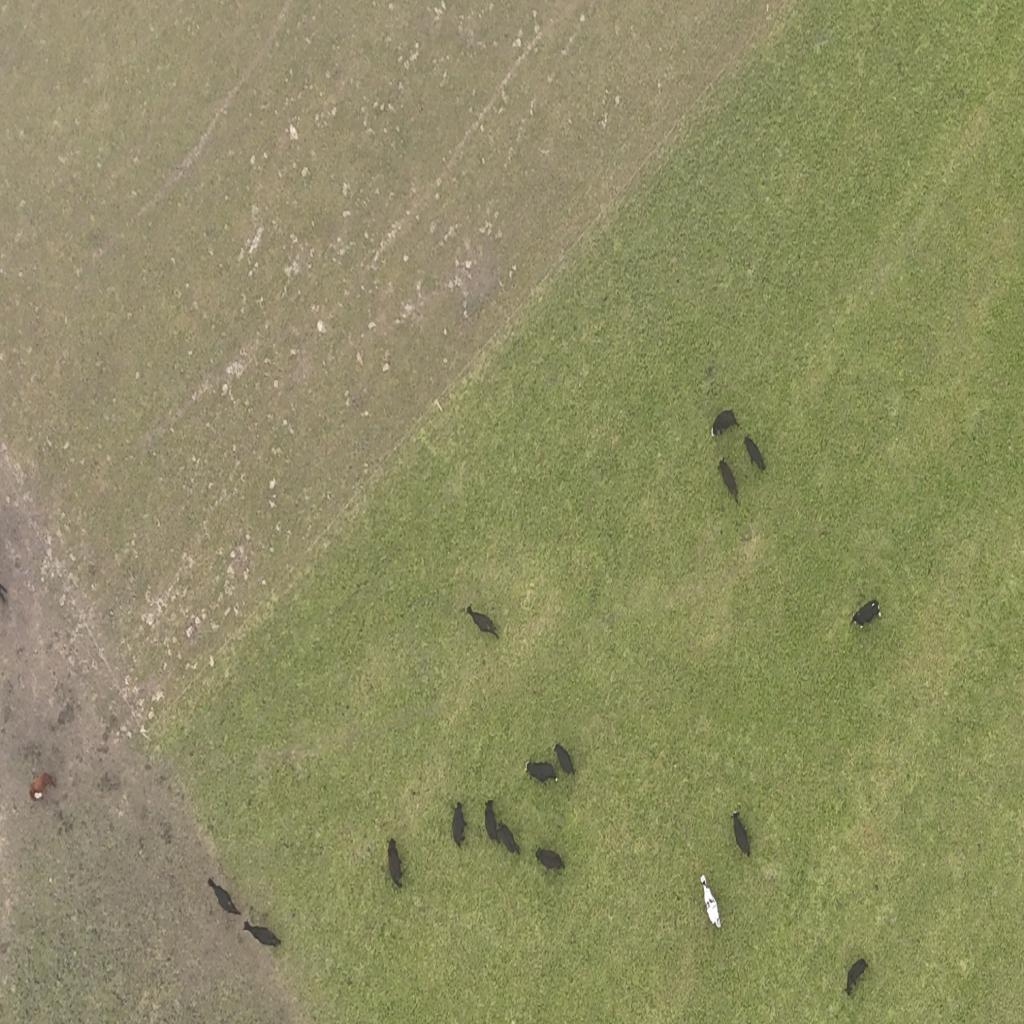cow: (207, 876, 241, 917), (242, 919, 282, 949), (466, 605, 500, 639), (701, 874, 721, 930), (730, 809, 752, 859), (26, 765, 56, 800), (718, 458, 739, 505), (386, 837, 404, 888), (844, 958, 868, 996), (850, 600, 880, 629), (535, 846, 565, 875), (526, 759, 559, 785), (744, 435, 766, 473), (554, 742, 576, 778), (712, 409, 738, 439), (498, 822, 520, 857), (451, 801, 467, 849), (484, 800, 500, 844)
